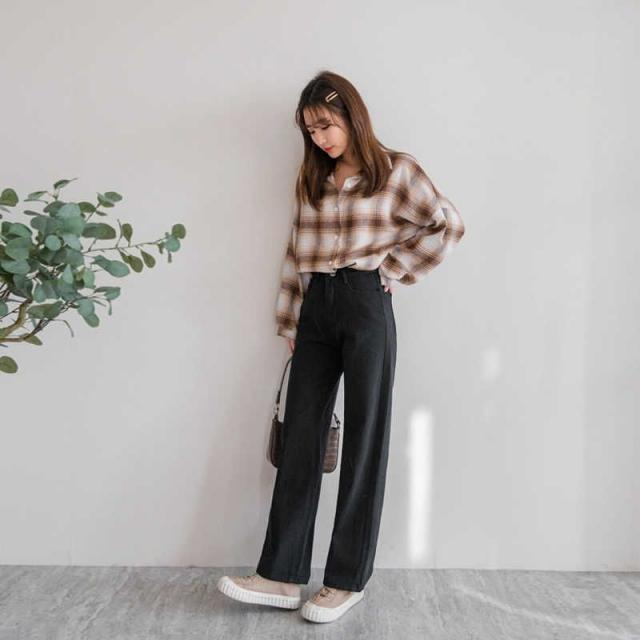plaid: (283, 146, 469, 282)
